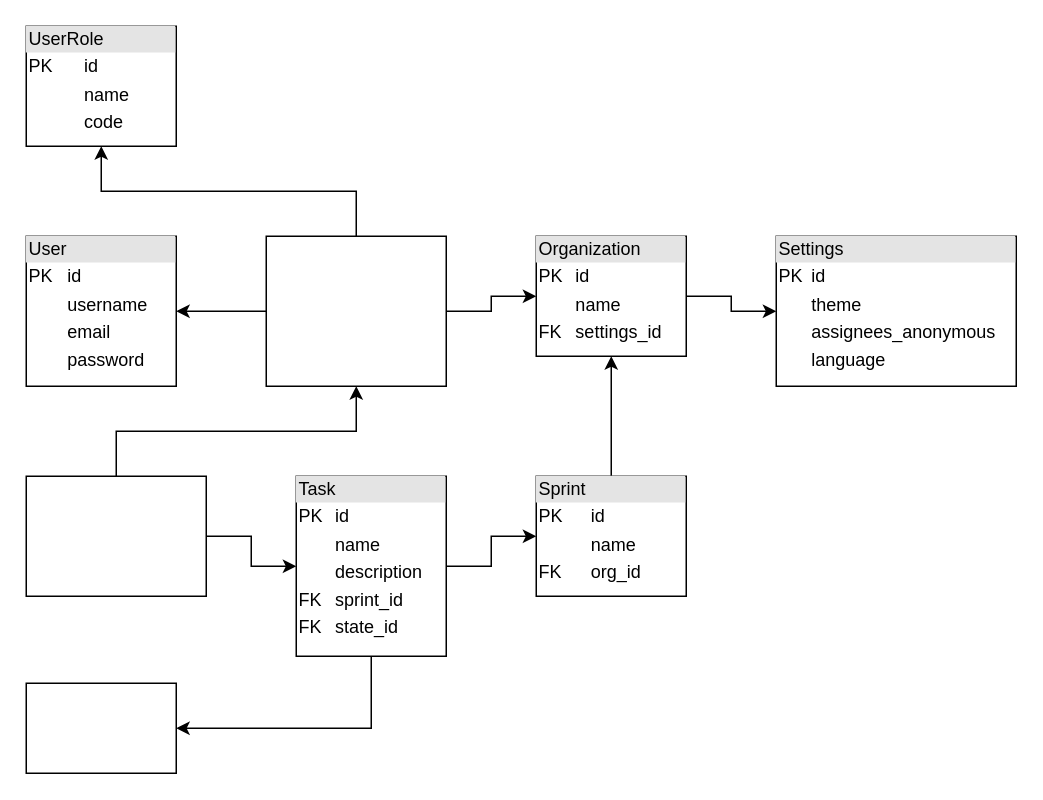
This 1043x800 diagram has some shape labels left out. Each missing label, with the centre of its shape:
"OrganizationMember PK id FK user_id FK org_id FK user_role_id" belongs at [355,310].
"TaskAssignee PK id FK task_id FK org_member_id" belongs at [115,535].
"TaskState PK id status" belongs at [100,727].
